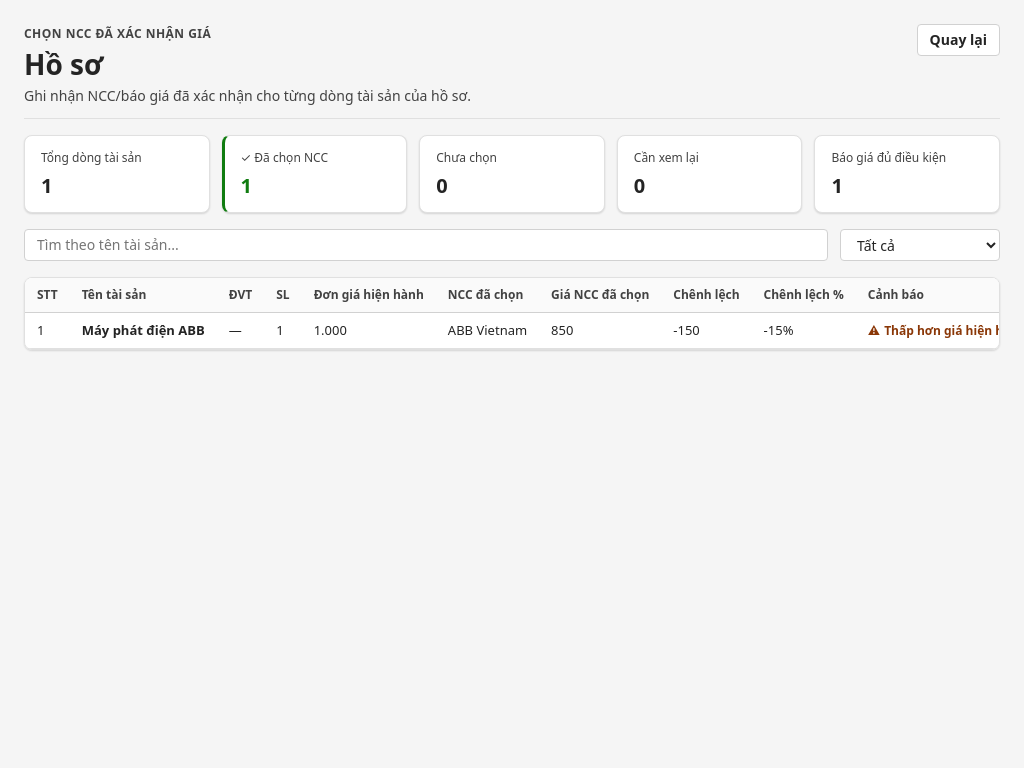
Test: NccSelectionPage › reveals server-provided evidence metadata through an accessible disclosure
The image size is (1024, 768).
Click the row named "Xem chi tiết: Máy phát điện ABB". click: click(524, 330)
box: [25, 312, 1023, 348]
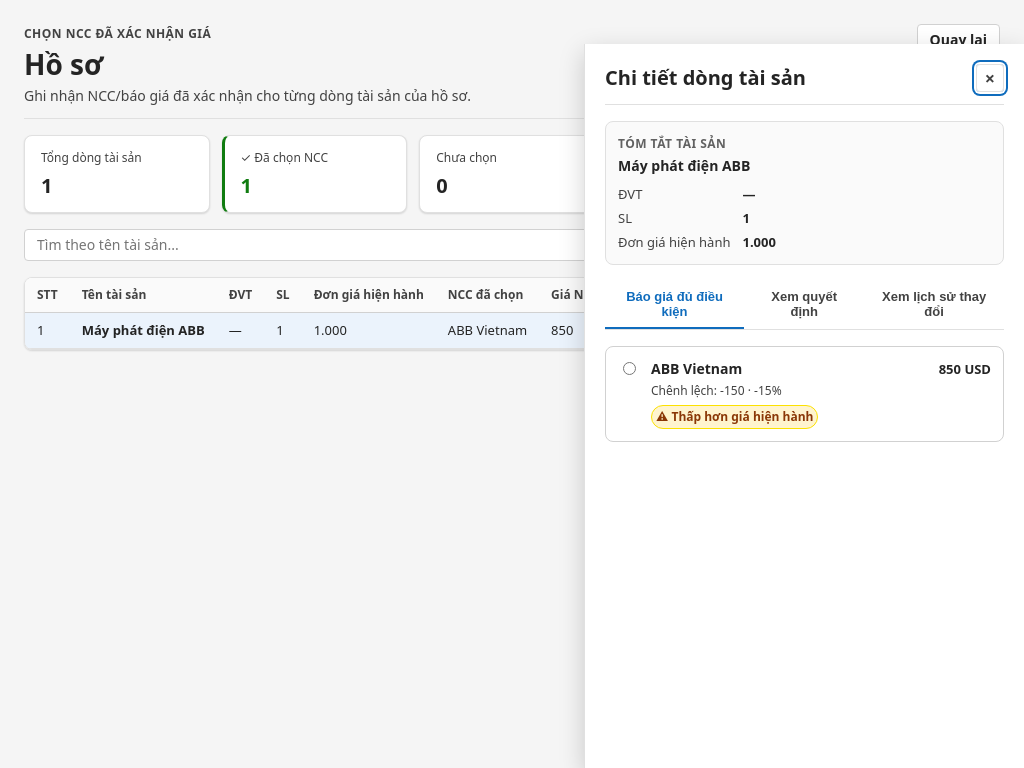
Click the tab "Xem quyết định". click: click(804, 305)
box: [748, 281, 860, 329]
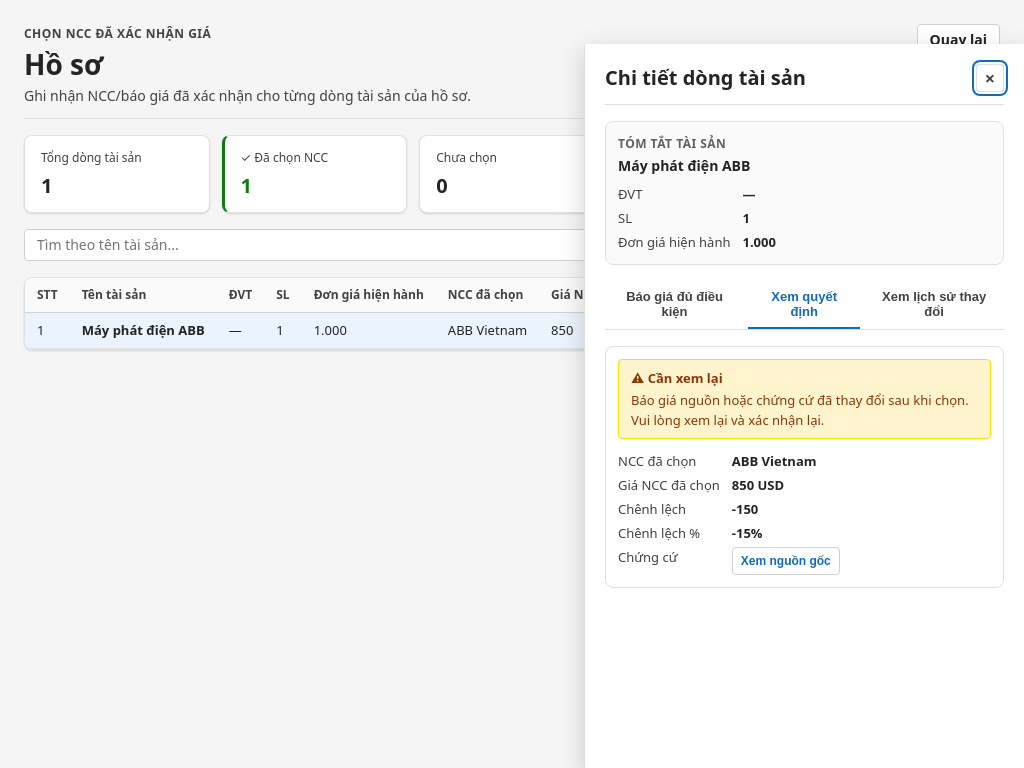
Click the button "Xem nguồn gốc". click: click(786, 561)
box: [732, 547, 840, 575]
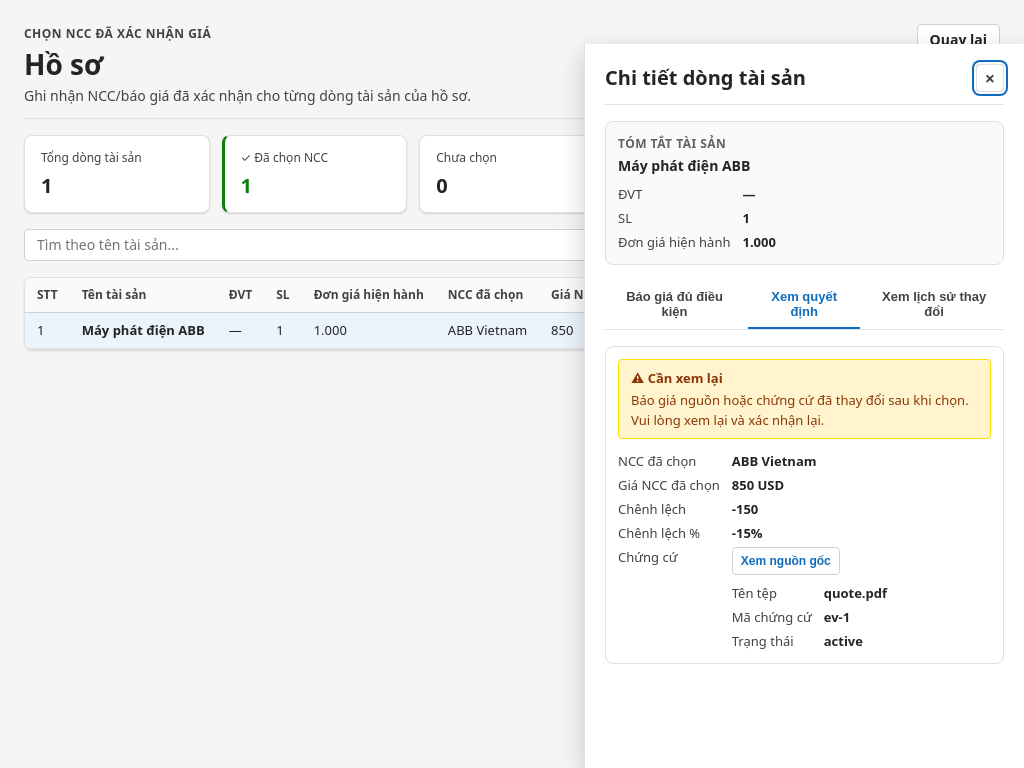
Result: the text "quote.pdf" is shown at [824, 584, 887, 602]
Result: the text "ev-1" is shown at [824, 608, 850, 626]
Result: the text "active" is shown at [824, 632, 863, 650]
